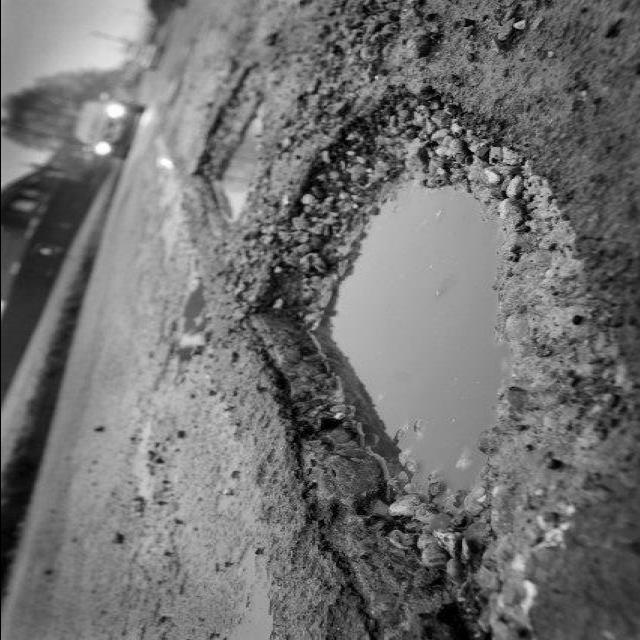lubang: (219, 86, 640, 640), (154, 44, 304, 252), (138, 261, 238, 387)
